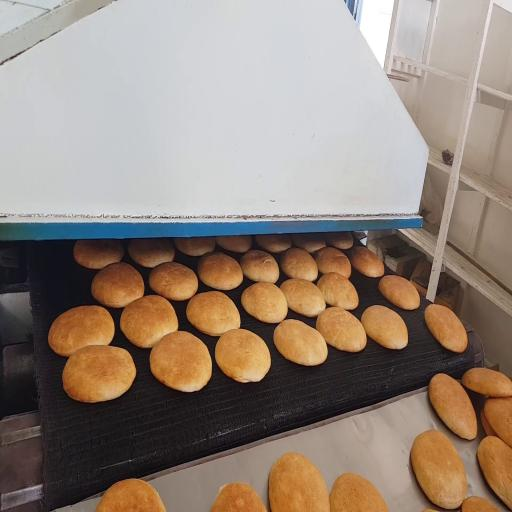bread: (411, 430, 466, 509), (63, 346, 136, 402), (150, 331, 211, 392), (269, 453, 330, 511), (48, 306, 114, 356), (429, 374, 477, 439), (120, 295, 178, 347), (215, 330, 270, 382), (478, 436, 511, 509), (91, 263, 144, 308), (274, 320, 327, 365), (186, 292, 240, 336), (316, 307, 366, 352), (330, 473, 389, 511), (96, 479, 165, 511), (425, 304, 467, 353), (361, 305, 407, 349), (149, 262, 198, 301), (242, 282, 287, 323), (198, 252, 243, 290), (280, 279, 325, 317), (73, 239, 124, 270), (211, 483, 266, 511), (317, 273, 358, 310), (462, 368, 511, 397), (128, 238, 175, 268), (379, 275, 419, 310), (484, 398, 511, 447), (240, 250, 279, 283), (280, 248, 318, 281), (315, 247, 351, 277), (350, 247, 384, 277), (174, 238, 215, 256), (256, 234, 291, 253), (292, 234, 325, 253), (216, 236, 252, 253), (324, 231, 354, 250), (462, 496, 498, 511), (481, 407, 496, 435)
